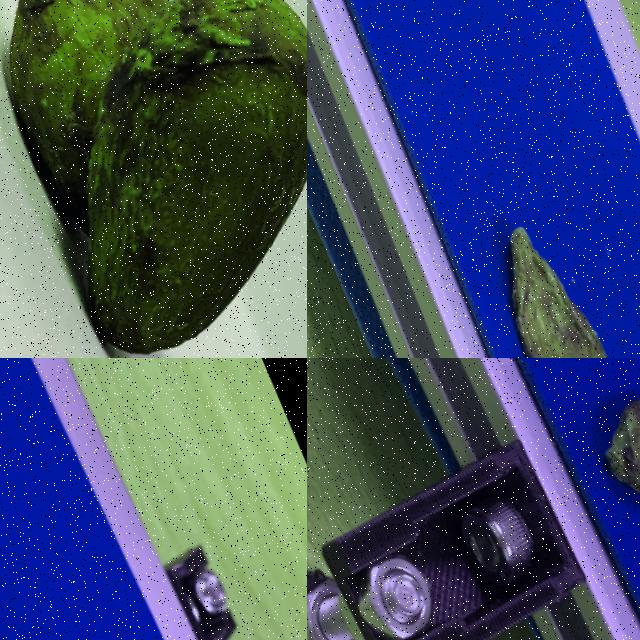Agglomerated_cocoabeans: (0, 0, 306, 357)
Flat_cocoabeans: (418, 147, 639, 357), (537, 358, 639, 600)
